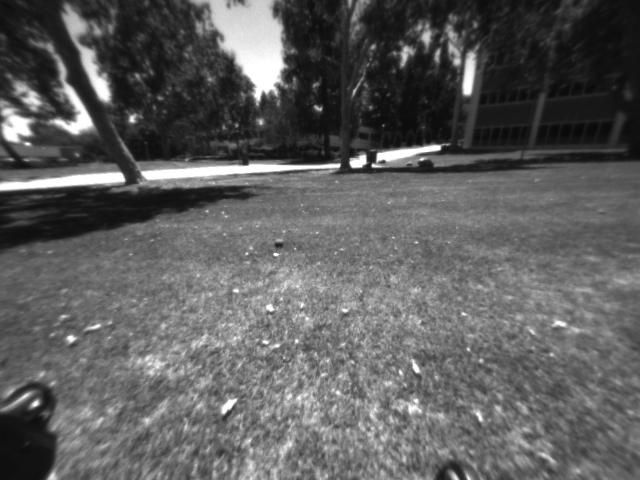dogtoy: (267, 234, 289, 253)
